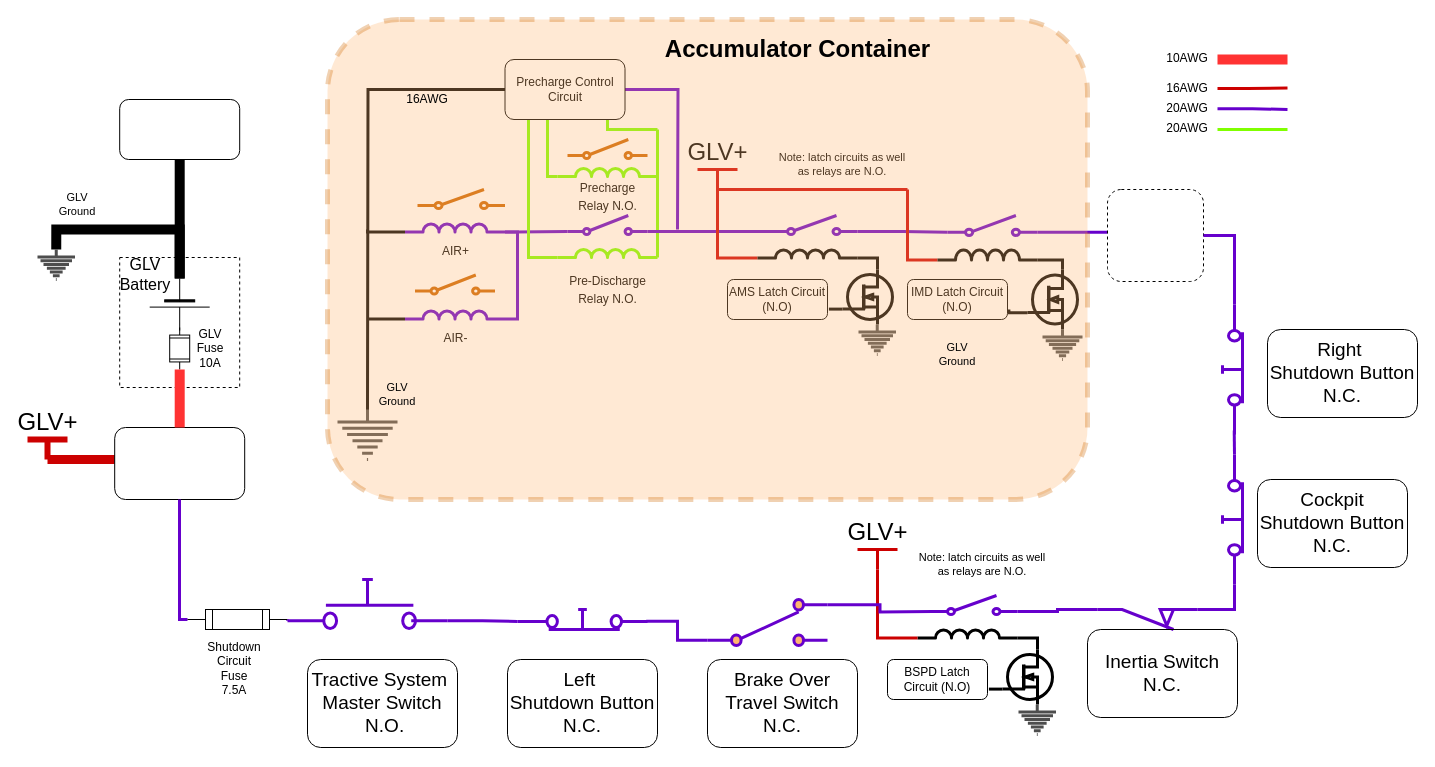
Some shapes in this 1435 by 767 pixel diagram are drawn without their labels. The shapes that lost their labels are listed below. From the top down, each one's centre as x and y in pixels, then its label:
At point (179, 129): "Chassis".
At point (1155, 235): "HVDC Connector Interlock N.O.".
At point (179, 463): "GLV System Master Switch N.O.".
